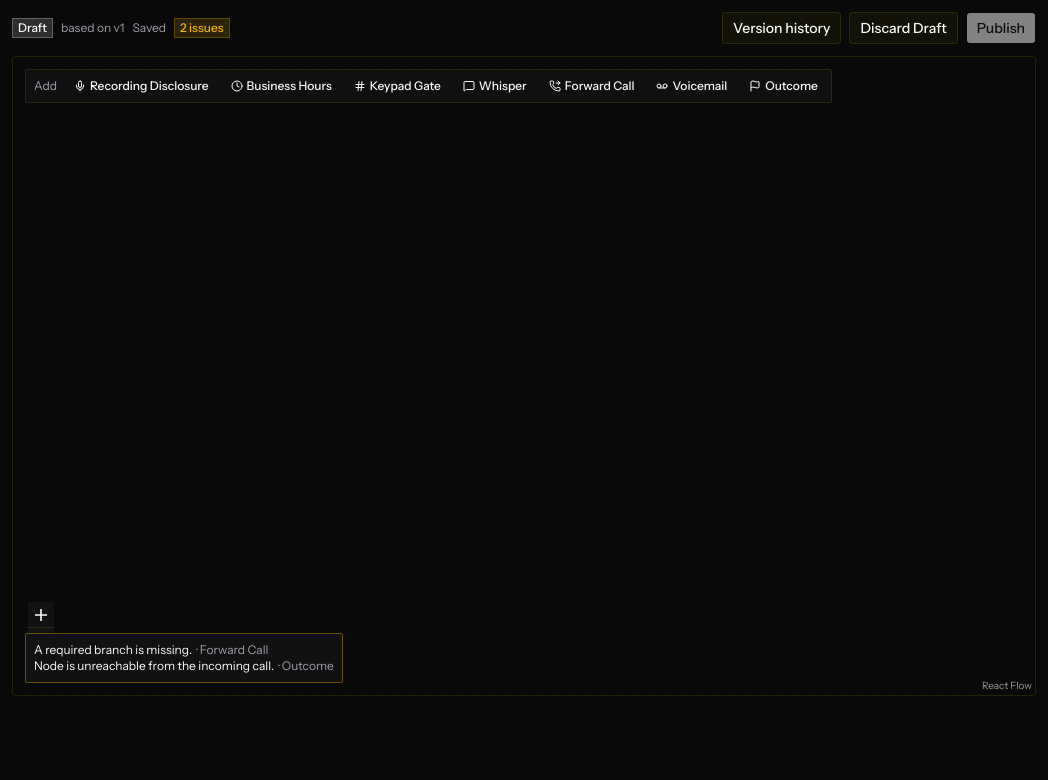
Scenario: WorkspaceFlowEditor › lists validation issues and selects the affected node
Click the button "A required branch is missing.".
click(113, 650)  # box [34,642,192,658]
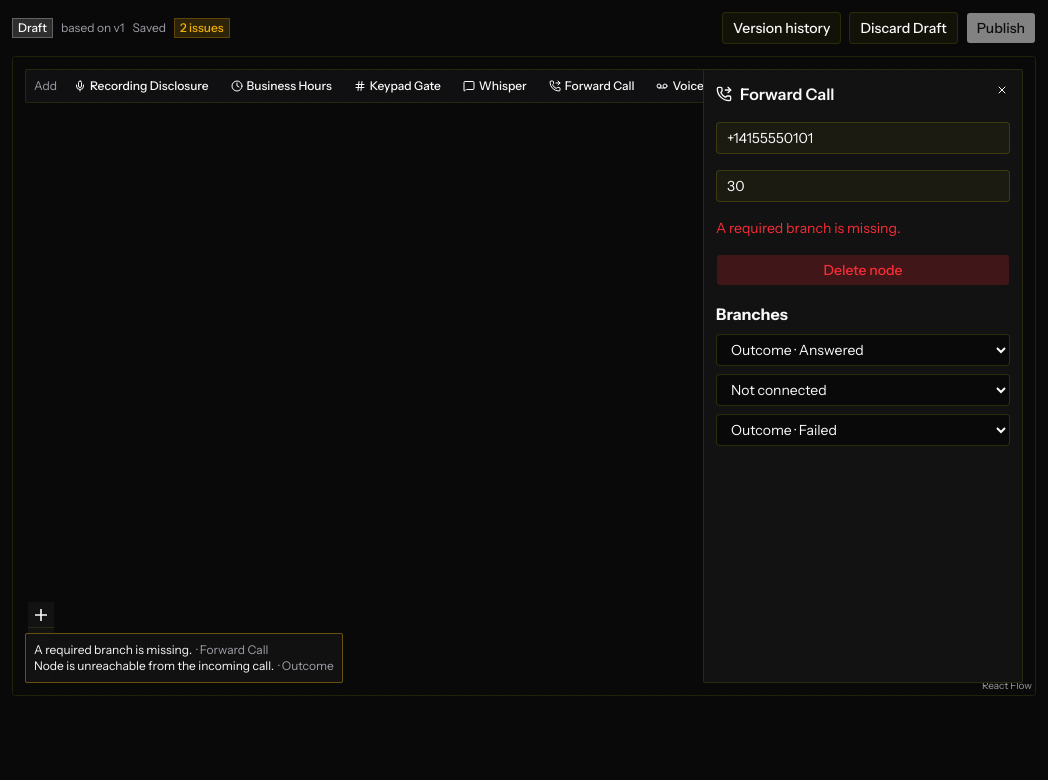
expect the heading "Forward Call" is shown: met, box [716,84,834,104]
